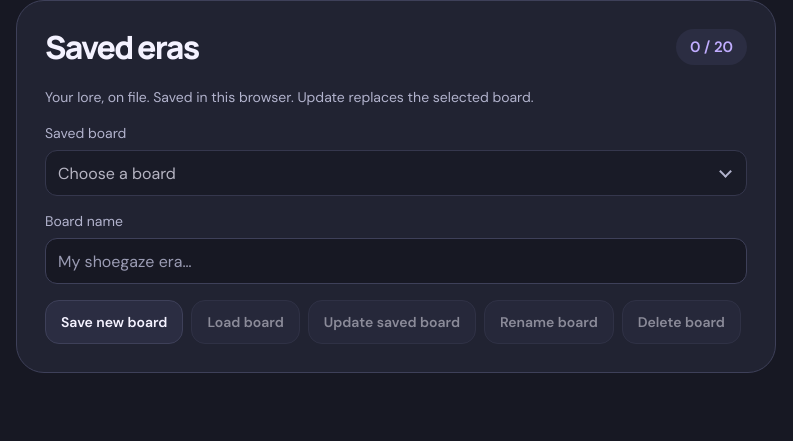
Test: Saved boards › uses a native lock and preserves data if secure storage locks are unavailable
In the field labelled "Board name": (396, 261) top-left (45, 238), bottom-right (747, 284), type "Favorites"
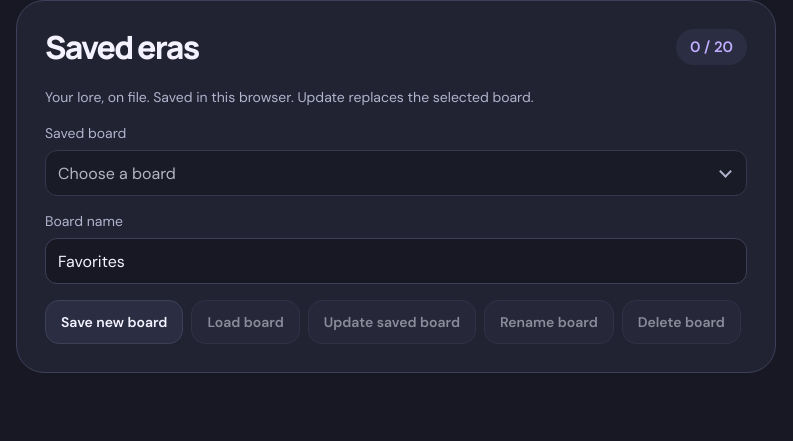
Click the button "Save new board": (114, 322) top-left (45, 300), bottom-right (183, 344)
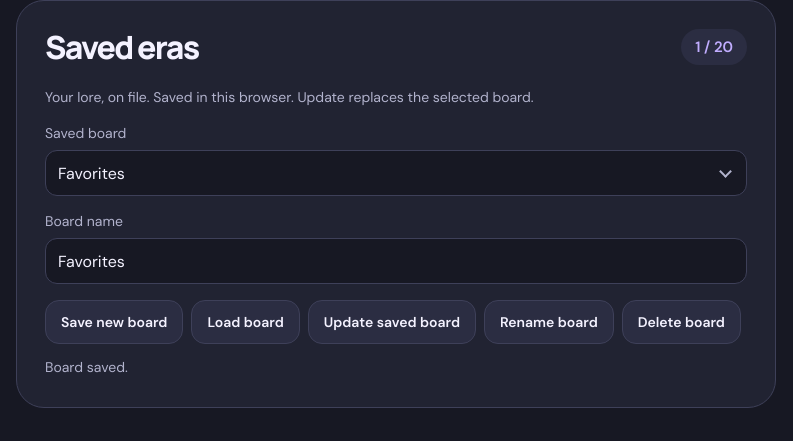
Replace the text in the field labelled "Board name" with "Another": (396, 261) top-left (45, 238), bottom-right (747, 284)
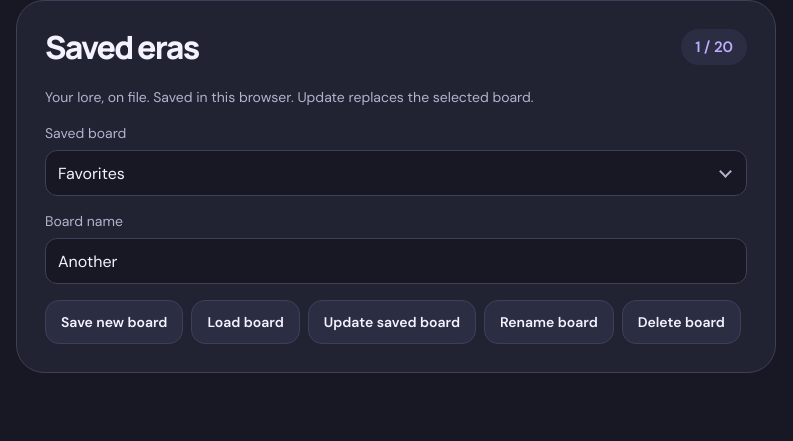
Click the button "Save new board": (114, 322) top-left (45, 300), bottom-right (183, 344)
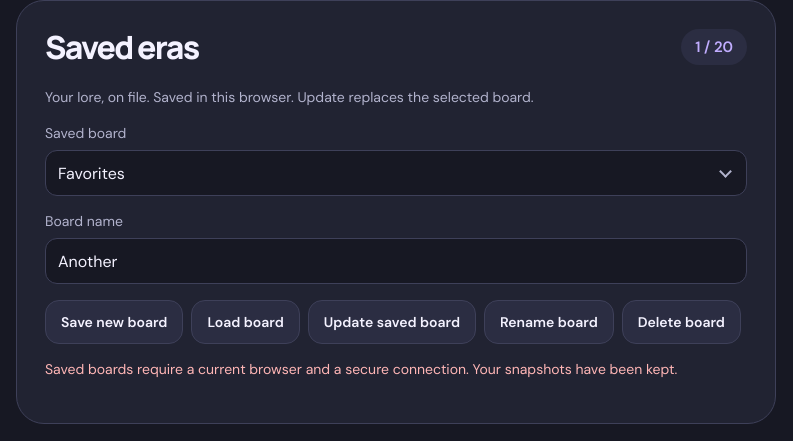
Check: the message shows "secure connection", box top-left (45, 360), bottom-right (677, 378)
